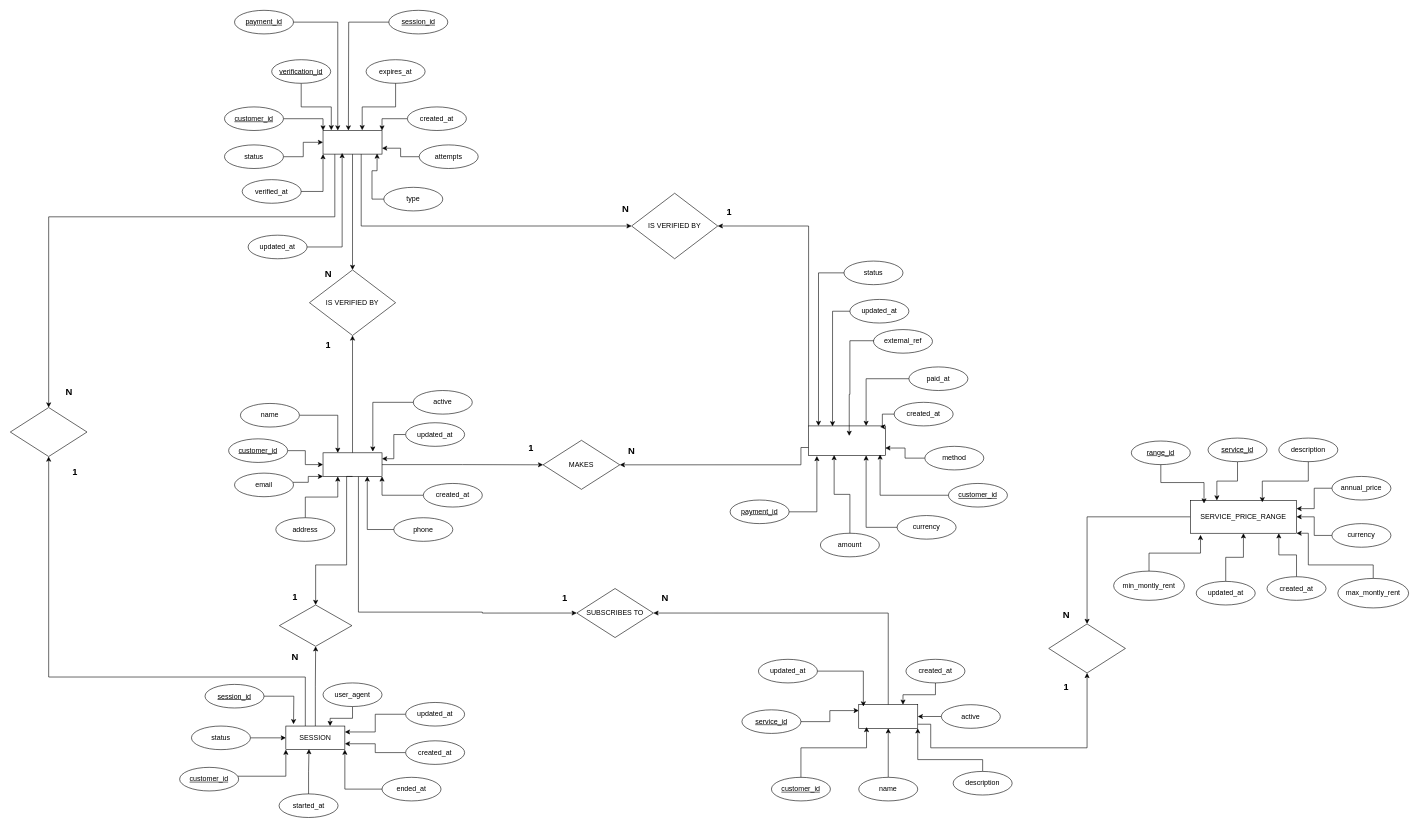
The diagram is 1419 pixels wide and 828 high, and some of its shapes have lost their labels. The box of each missing label's shape, as (x1, y1, x2, y2) in pixels:
CUSTOMER: (322, 452, 382, 476)
IS AUTHENTICATED WITH: (10, 407, 87, 457)
PAYMENT: (808, 425, 885, 455)
PURCHASES: (1048, 623, 1125, 673)
SERVICE: (858, 704, 918, 728)
STARTS: (279, 604, 352, 646)
VERIFICATION: (322, 130, 382, 154)
